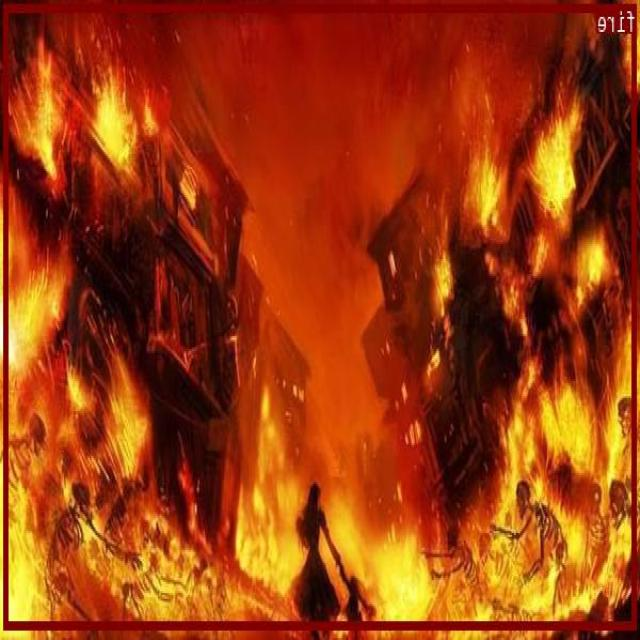fire: (5, 2, 637, 628)
